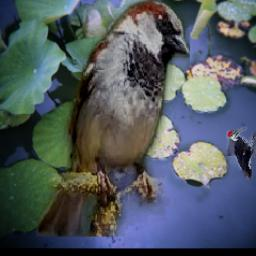Sparrow: (36, 0, 190, 237)
Woodpecker: (226, 128, 256, 181)
